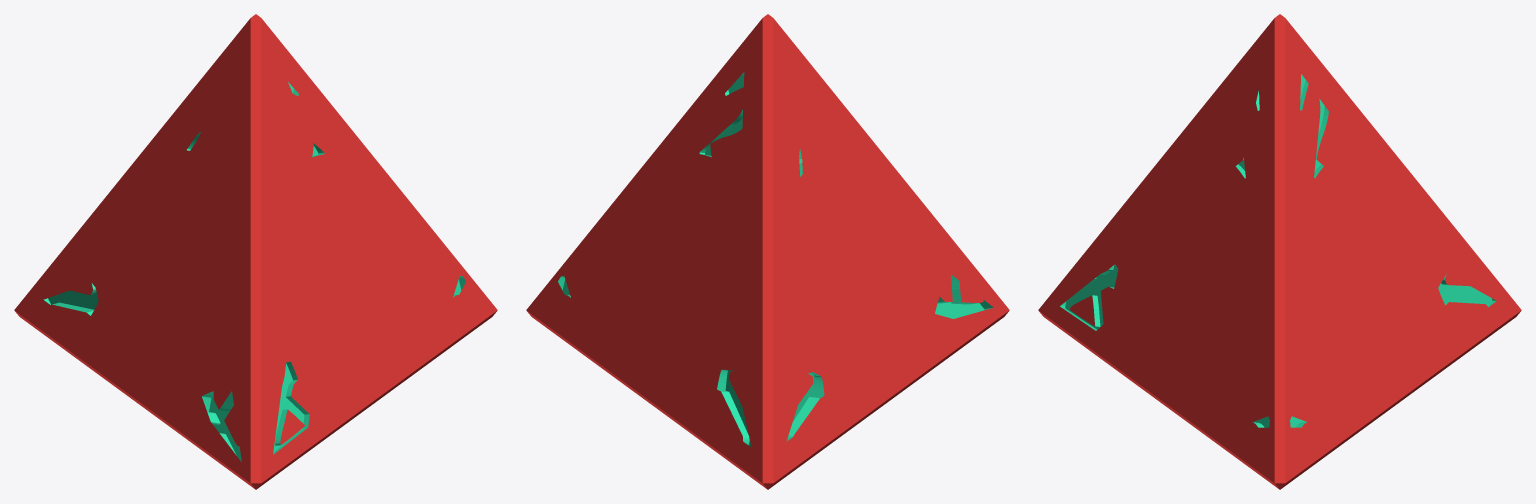
3 renders of one model, left to right at view 1: azimuth 30°, elevation 25°; view 2: azimuth 150°, elevation 25°; view 3: azimuth 270°, elevation 25°, orthographic.
Parts seen in each view (by area): view 1: Solid.001; view 2: Solid.001; view 3: Solid.001.
Boxes of the visible parts, <box> form: Solid.001: <box>14,14,497,489</box>; Solid.001: <box>526,14,1009,489</box>; Solid.001: <box>1038,14,1521,489</box>.
Bounding box in the file's own units: 135 × 128 × 156.
